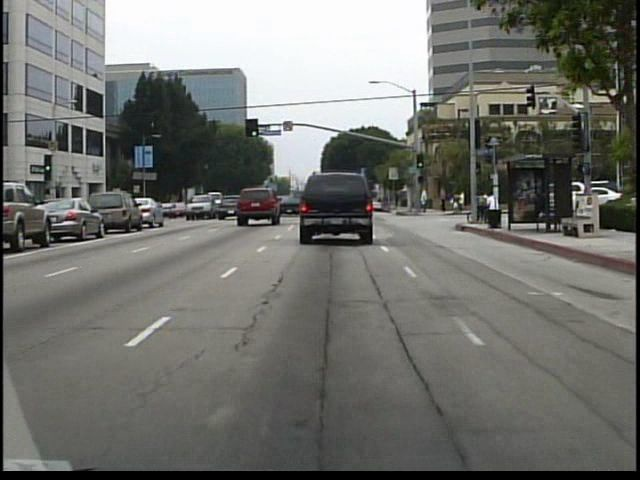person: (418, 184, 432, 216), (437, 181, 450, 214), (397, 187, 399, 210)
